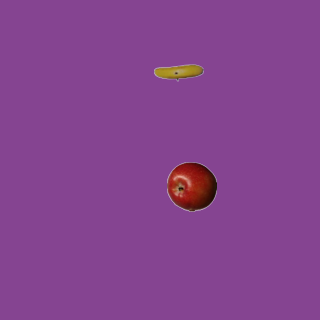Apple Braeburn: (166, 161, 216, 211)
Banana: (153, 47, 203, 97)
